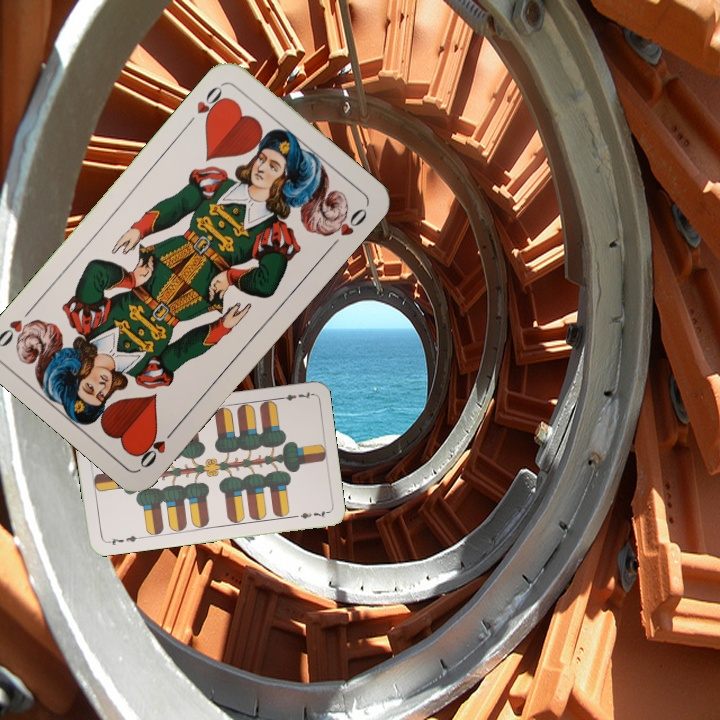E7: (102, 531, 143, 548), (273, 388, 314, 403)
HO: (183, 80, 230, 129), (134, 422, 180, 471)
